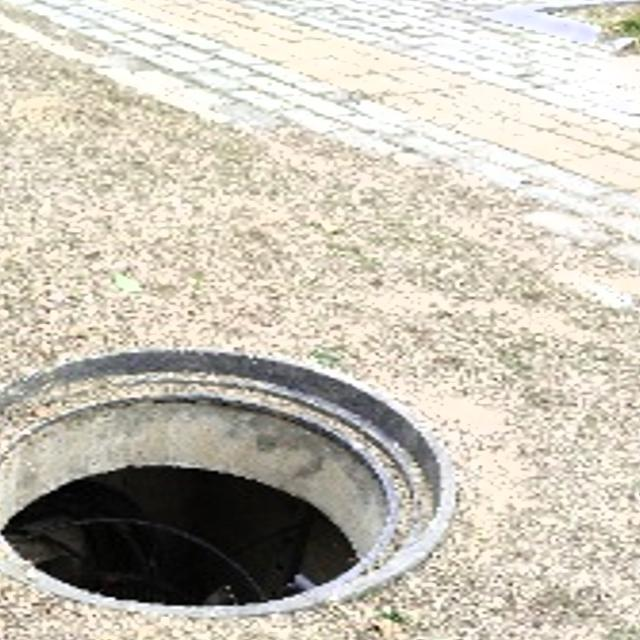lose: (0, 344, 456, 617)
